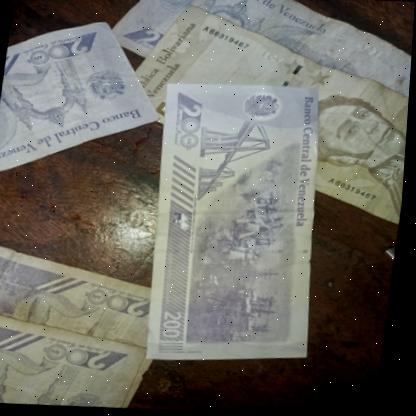five-front-vef: (97, 0, 416, 233)
ten-back-vef: (91, 0, 416, 161), (0, 13, 174, 190), (0, 234, 190, 391), (0, 304, 157, 413)
two_hundred-back-vef: (132, 78, 347, 371)
